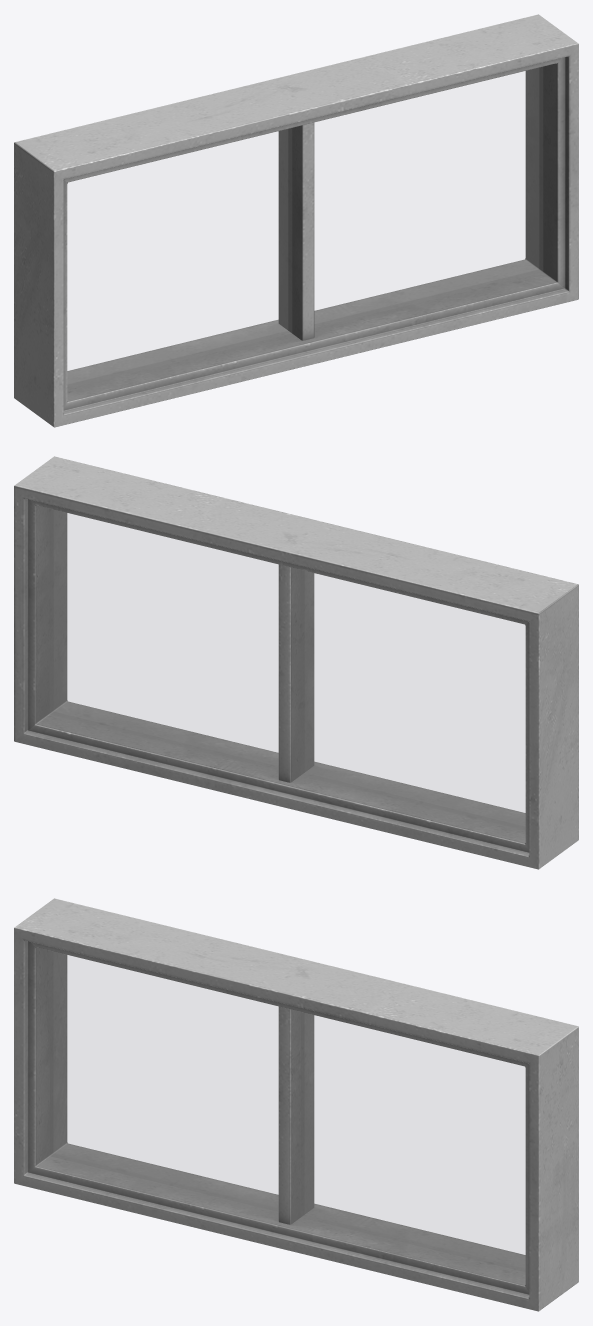
Rendered from Window_70x150.FBX.
The picture shows the model from 3 angles, top to bottom: view 1: azimuth 30°, elevation 25°; view 2: azimuth 150°, elevation 25°; view 3: azimuth 330°, elevation 25°; orthographic projection.
Parts seen in each view (by area): view 1: Window_70x150; view 2: Window_70x150; view 3: Window_70x150.
Boxes of the visible parts, x1,y1,x2,y2 form: Window_70x150: [14, 14, 578, 427]; Window_70x150: [14, 456, 578, 869]; Window_70x150: [14, 898, 578, 1311].
Bounding box in the file's own units: 150 × 70 × 20.
